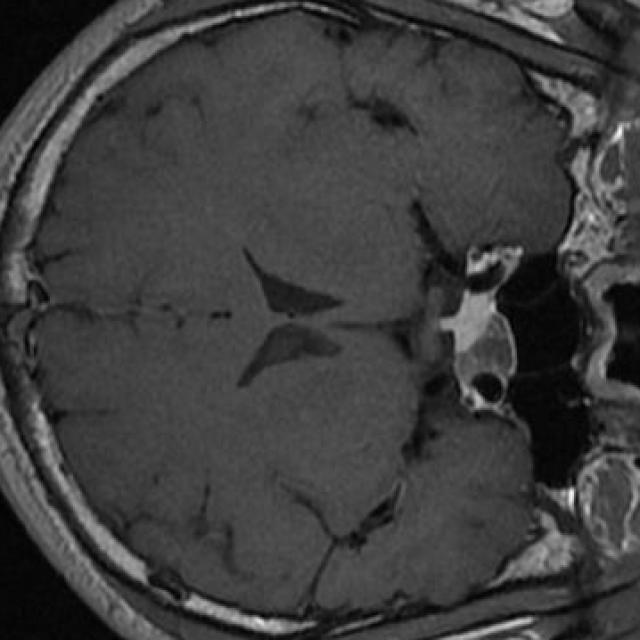pituitary: (440, 292, 519, 380)
